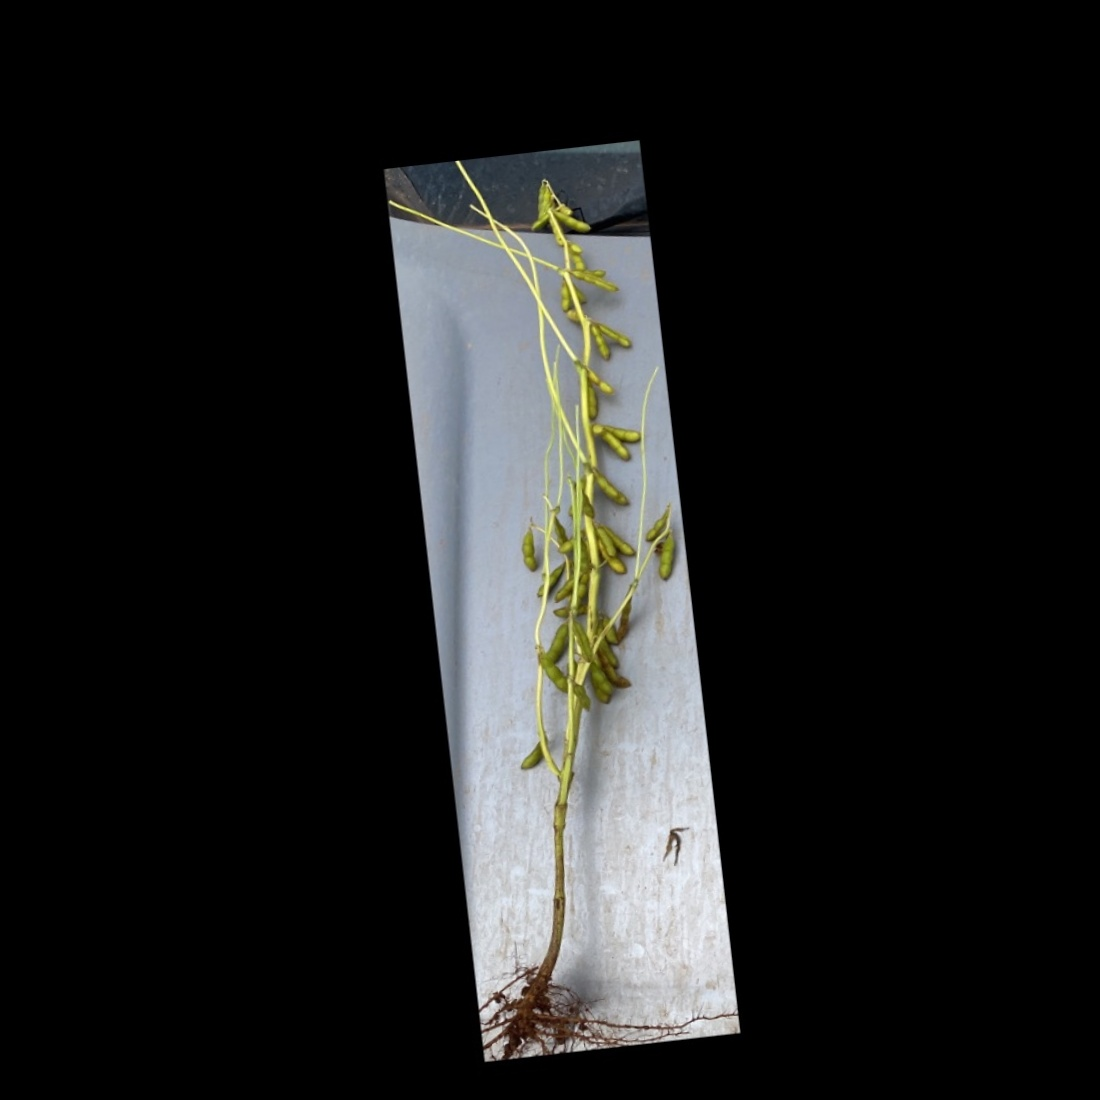pod: (512, 734, 552, 773), (652, 527, 679, 583), (536, 648, 568, 695), (594, 469, 631, 510), (516, 522, 542, 576), (549, 207, 595, 235), (585, 320, 612, 363), (641, 508, 672, 544), (566, 678, 593, 717), (555, 279, 571, 312), (526, 212, 551, 233)
soy: (391, 162, 732, 1049)
